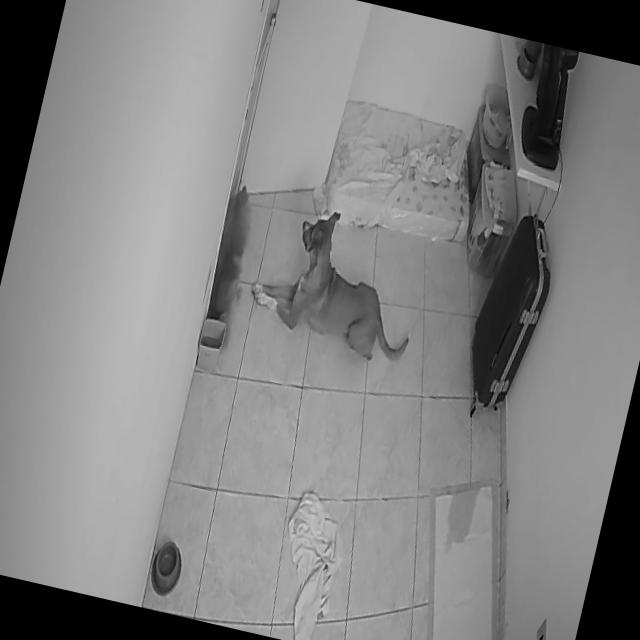laying down: (235, 192, 436, 380)
